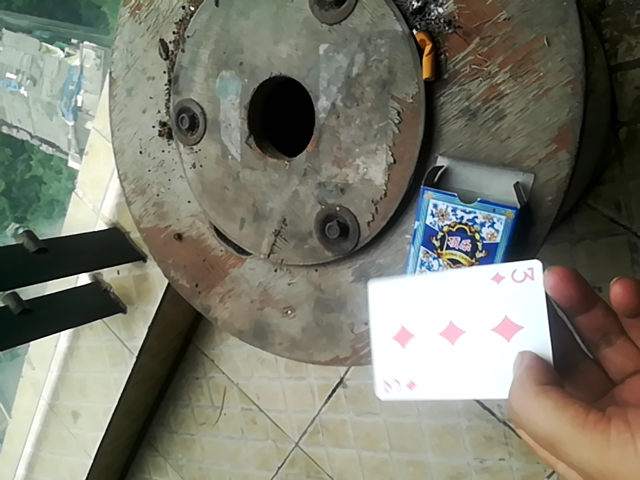fk 3: (366, 255, 549, 401)
